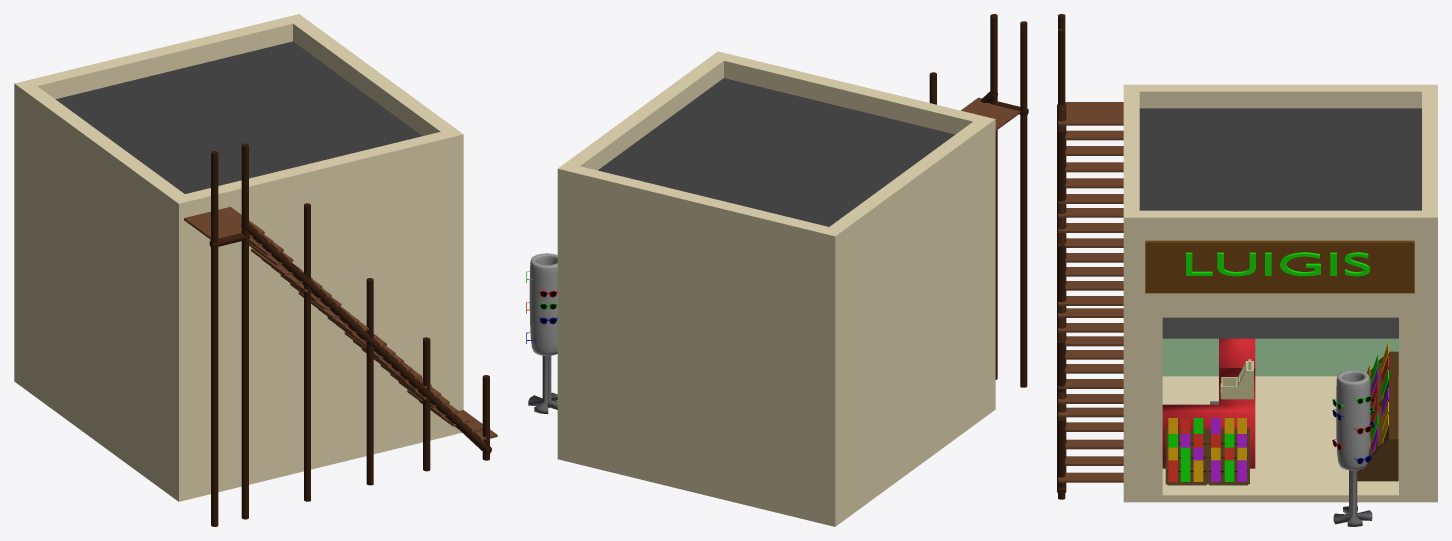
File: Strand HausFertig.fbx
3 views of the same model, side by side, from view 1: azimuth 30°, elevation 25°; view 2: azimuth 150°, elevation 25°; view 3: azimuth 270°, elevation 25° (orthographic). The views are drawn at different scales.
Parts seen in each view (by area): view 1: Strandhaus, TreppenGerüst, Treppe; view 2: Strandhaus, TreppenGerüst, ständer.001, ständer, Treppe; view 3: Strandhaus, Treppe, Wand, GaragenTor, TreppenGerüst, Tresen, ständer.001, Broschurenstander.001, Broschurenstander, Text, GelbeBrochure, GruneBrochure (+4 smaller).
Part boxes in pixels (bbox=[...]): Strandhaus: bbox=[14, 14, 463, 501]; TreppenGerüst: bbox=[209, 143, 491, 526]; Treppe: bbox=[184, 207, 497, 440]; Strandhaus: bbox=[557, 51, 995, 526]; TreppenGerüst: bbox=[929, 14, 1028, 387]; ständer.001: bbox=[529, 253, 557, 355]; ständer: bbox=[528, 355, 557, 414]; Treppe: bbox=[961, 97, 1020, 130]; Strandhaus: bbox=[1123, 84, 1437, 502]; Treppe: bbox=[1058, 102, 1123, 482]; Wand: bbox=[1145, 240, 1414, 293]; GaragenTor: bbox=[1162, 317, 1398, 338]; TreppenGerüst: bbox=[1057, 14, 1066, 499]; Tresen: bbox=[1162, 338, 1255, 468]; ständer.001: bbox=[1336, 370, 1370, 470]; Broschurenstander.001: bbox=[1357, 351, 1398, 481]; Broschurenstander: bbox=[1165, 428, 1249, 485]; Text: bbox=[1186, 252, 1369, 276]; GelbeBrochure: bbox=[1168, 418, 1246, 481]; GruneBrochure: bbox=[1168, 418, 1234, 481].
Size of the model in its own units: 252 by 250 by 242.
